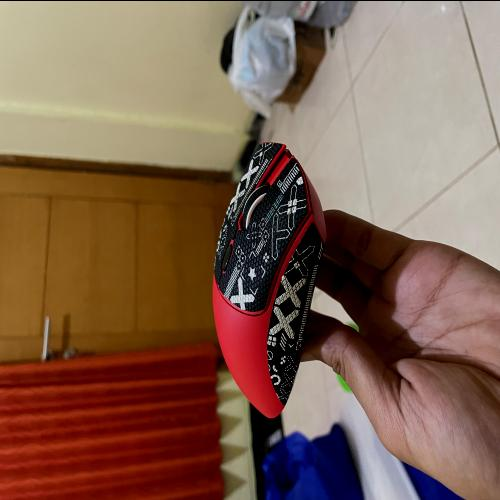mouse: (201, 113, 337, 437)
